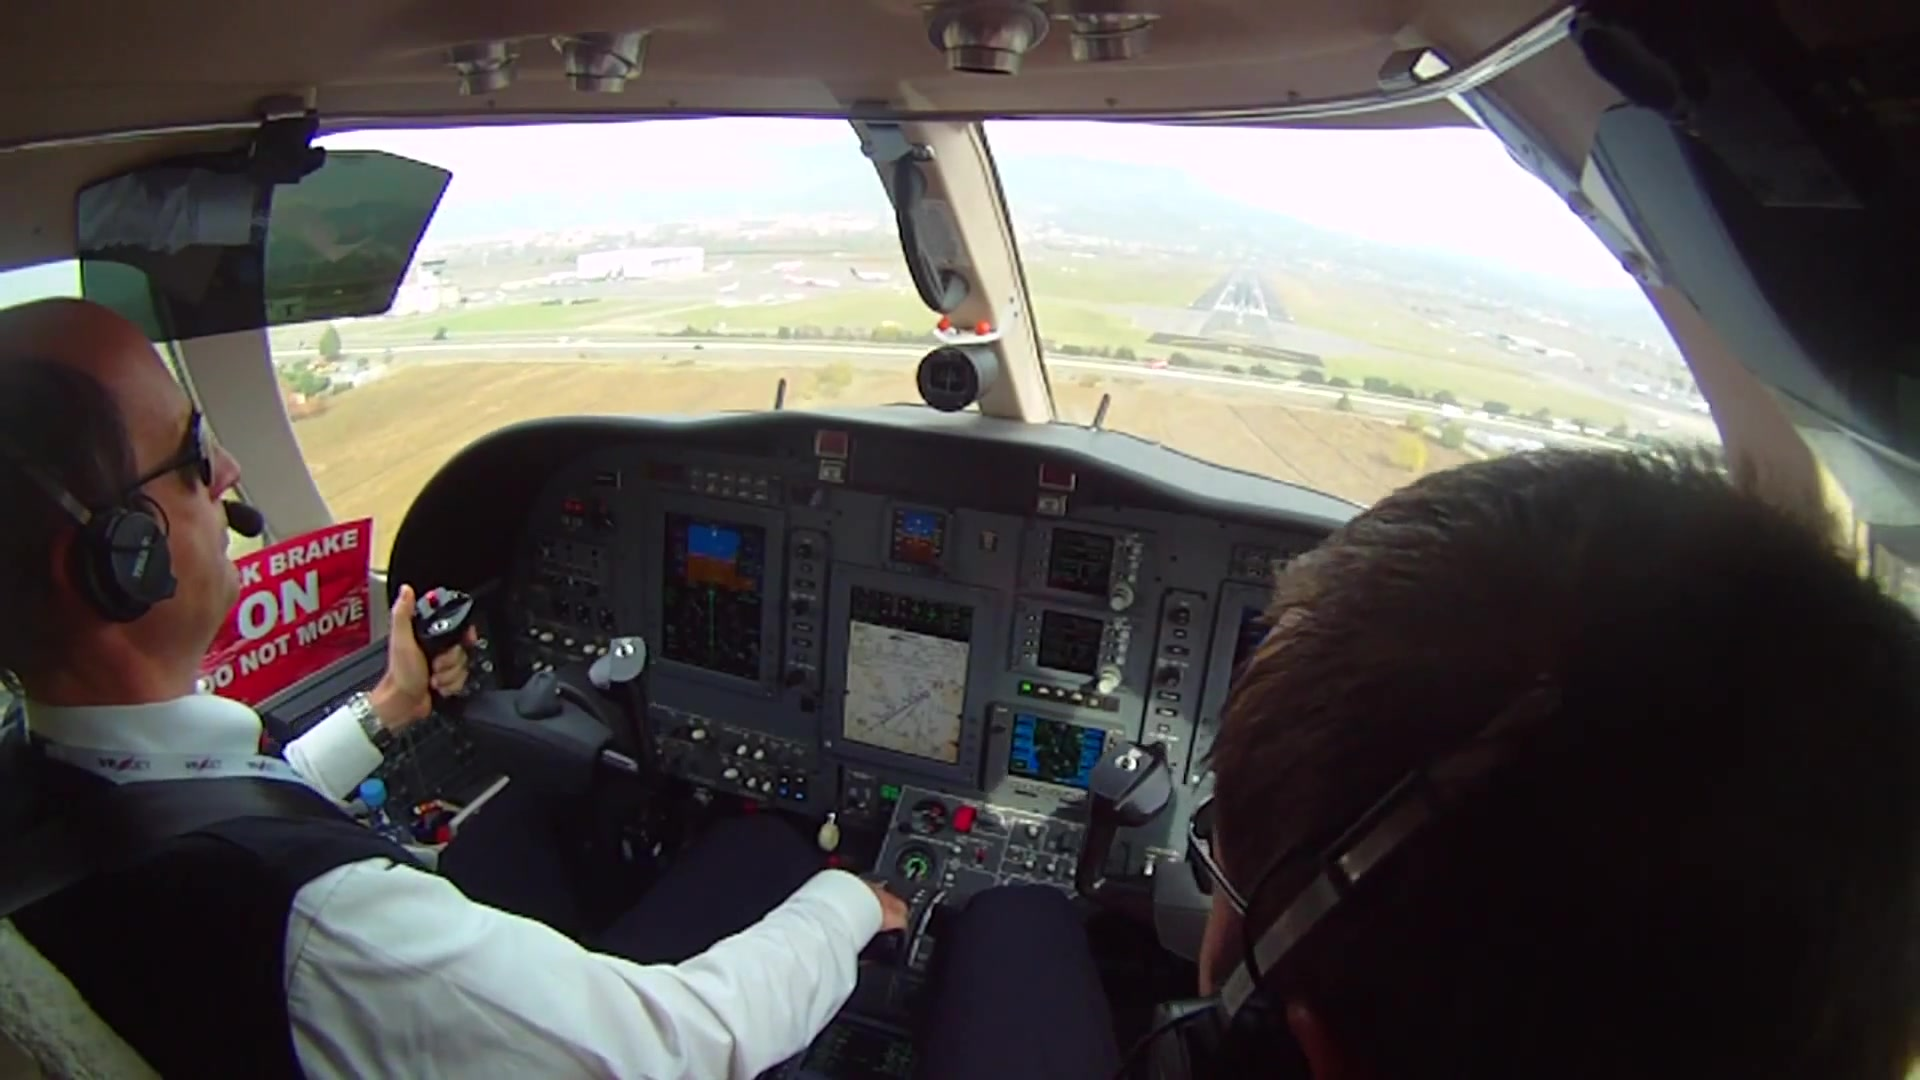entrance: (1217, 302, 1266, 314)
runway: (1213, 258, 1269, 316)
